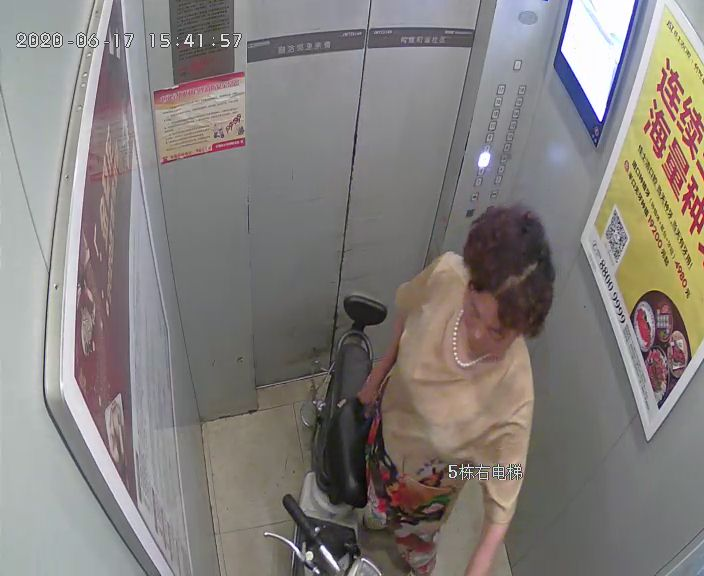Electric-bicycle: (263, 293, 388, 576)
